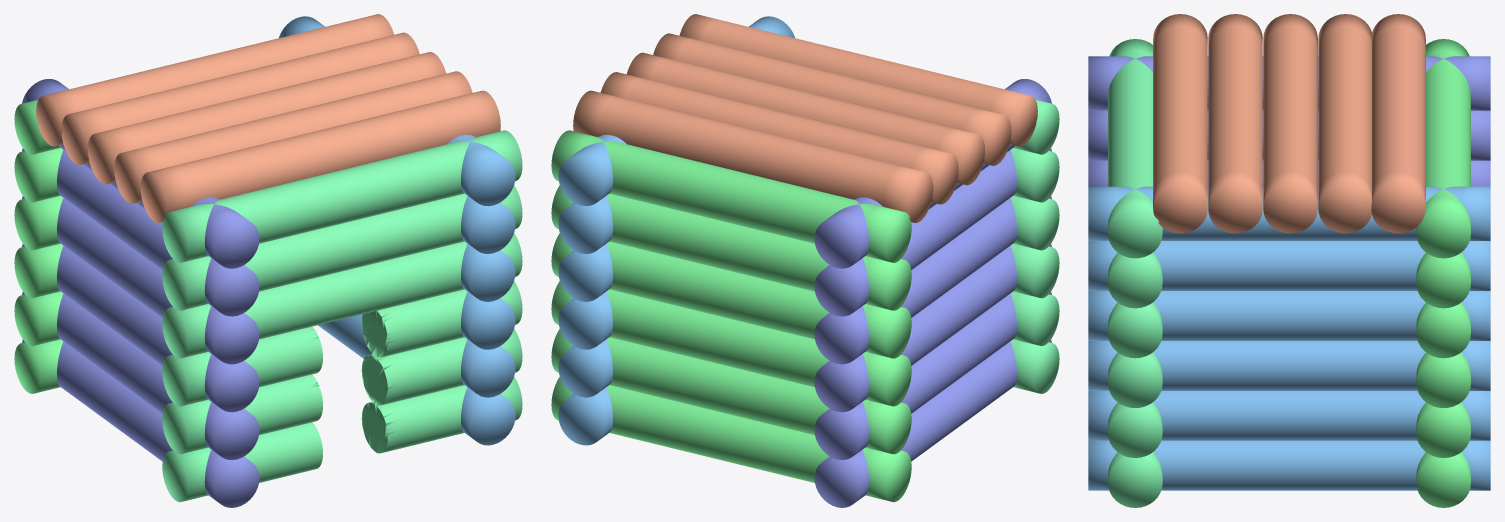
File: Cross_Cabdoor.fbx
The picture shows the model from 3 angles, left to right: view 1: azimuth 30°, elevation 25°; view 2: azimuth 150°, elevation 25°; view 3: azimuth 270°, elevation 25°; orthographic projection. The views are drawn at different scales.
Visible parts, largest first — view 1: UMesh_Front_Cut1_5; view 2: UMesh_Front_Cut1_5; view 3: UMesh_Front_Cut1_5.
Part boxes in pixels (bbox=[...]): UMesh_Front_Cut1_5: bbox=[14, 14, 522, 507]; UMesh_Front_Cut1_5: bbox=[551, 14, 1059, 507]; UMesh_Front_Cut1_5: bbox=[1088, 14, 1490, 507].
Size of the model in its own units: 3.65 by 3.25 by 3.65.
